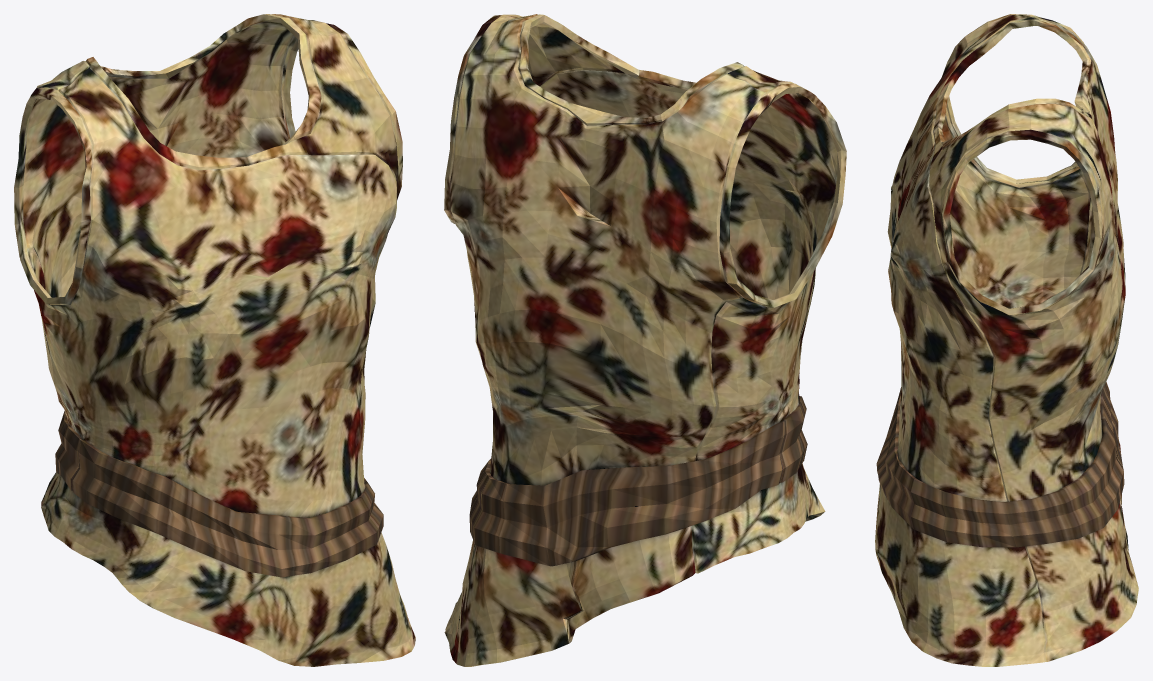
File: mhw_drednicolson_asymmetric_tunic_and_sash.glb
3 renders of one model, left to right at view 1: azimuth 30°, elevation 25°; view 2: azimuth 150°, elevation 25°; view 3: azimuth 270°, elevation 25°, orthographic. The views are drawn at different scales.
Visible parts, largest first — view 1: mhw_drednicolson_asymmetric_tunic_and_sash; view 2: mhw_drednicolson_asymmetric_tunic_and_sash; view 3: mhw_drednicolson_asymmetric_tunic_and_sash.
Boxes of the visible parts, x1,y1,x2,y2 form: mhw_drednicolson_asymmetric_tunic_and_sash: (14, 14, 415, 666); mhw_drednicolson_asymmetric_tunic_and_sash: (444, 14, 846, 666); mhw_drednicolson_asymmetric_tunic_and_sash: (875, 14, 1138, 666).
Size of the model in its own units: 0.4157 by 0.6922 by 0.3116.
Materials: 1 (1 with a texture image).
